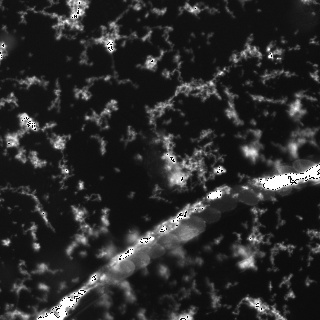embryo: (174, 217, 207, 243), (263, 171, 292, 195), (106, 261, 136, 284), (277, 166, 304, 189), (207, 192, 237, 212), (247, 180, 275, 200), (138, 242, 166, 260), (234, 186, 260, 205), (126, 252, 152, 271), (191, 207, 221, 223), (157, 234, 179, 250), (292, 159, 315, 172)
